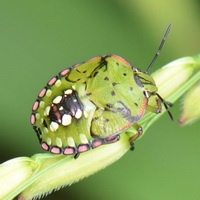insect: (30, 55, 172, 158)
